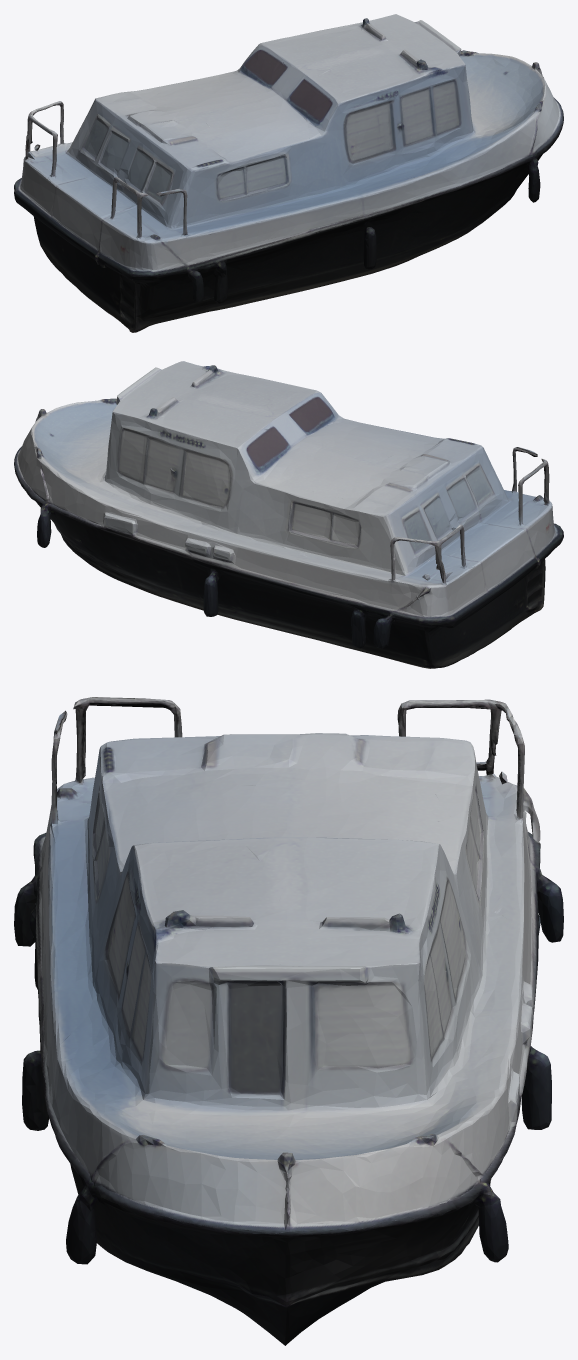
Rendered from renaud8000.glb.
3 renders of one model, top to bottom at view 1: azimuth 30°, elevation 25°; view 2: azimuth 150°, elevation 25°; view 3: azimuth 270°, elevation 25°, orthographic. The views are drawn at different scales.
Visible parts, largest first — view 1: world; view 2: world; view 3: world.
Part boxes in pixels (<box>): world: <box>14,14,563,332</box>; world: <box>14,361,563,668</box>; world: <box>14,697,563,1345</box>.
Size of the model in its own units: 0.9947 by 0.3697 by 0.5143.
Materials: 1 (1 with a texture image).
